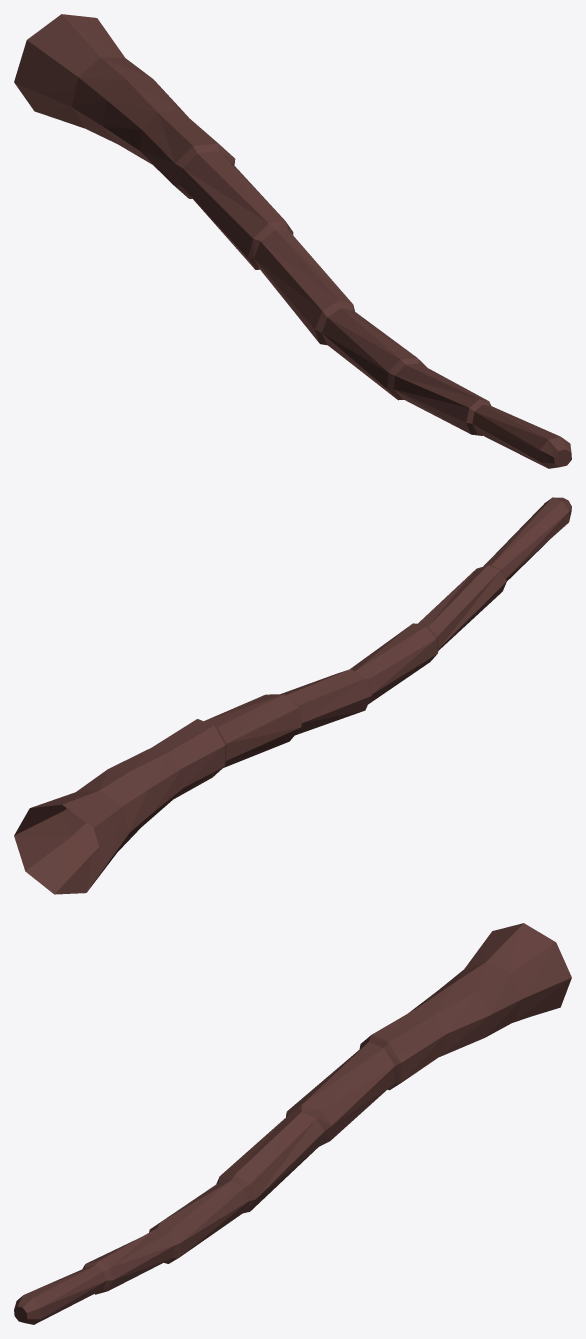
Rendered from PalmBent2.glb.
The picture shows the model from 3 angles, top to bottom: view 1: azimuth 30°, elevation 25°; view 2: azimuth 150°, elevation 25°; view 3: azimuth 330°, elevation 25°; orthographic projection. The views are drawn at different scales.
Parts seen in each view (by area): view 1: PalmBent2; view 2: PalmBent2; view 3: PalmBent2.
Boxes of the visible parts, x1,y1,x2,y2 form: PalmBent2: (14, 14, 571, 468); PalmBent2: (14, 497, 571, 894); PalmBent2: (14, 923, 571, 1324).
Size of the model in its own units: 0.555 by 0.5841 by 5.05.
1 material, 1 textured.
